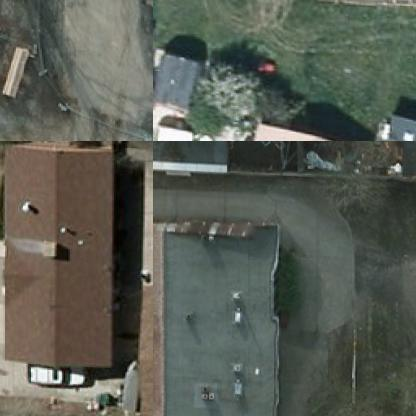car: (26, 360, 83, 386), (153, 118, 219, 140)
